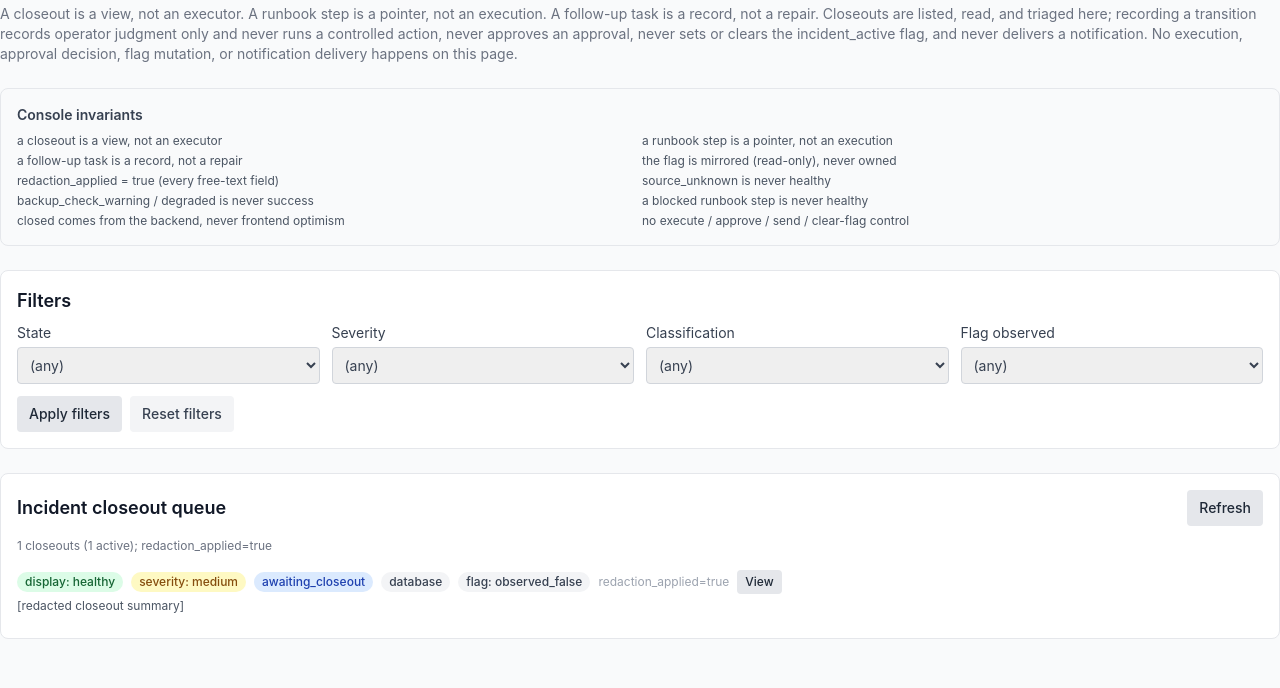
PlatformIncidentCloseoutsPage › a terminal step shows no step transition controls
expect the list item with test id "ic-queue-item" is shown: met, box [17,570,782,613]
Click the button with test id "ic-view-btn" at [759, 582], box [737,570,782,594]
(page scrolled)
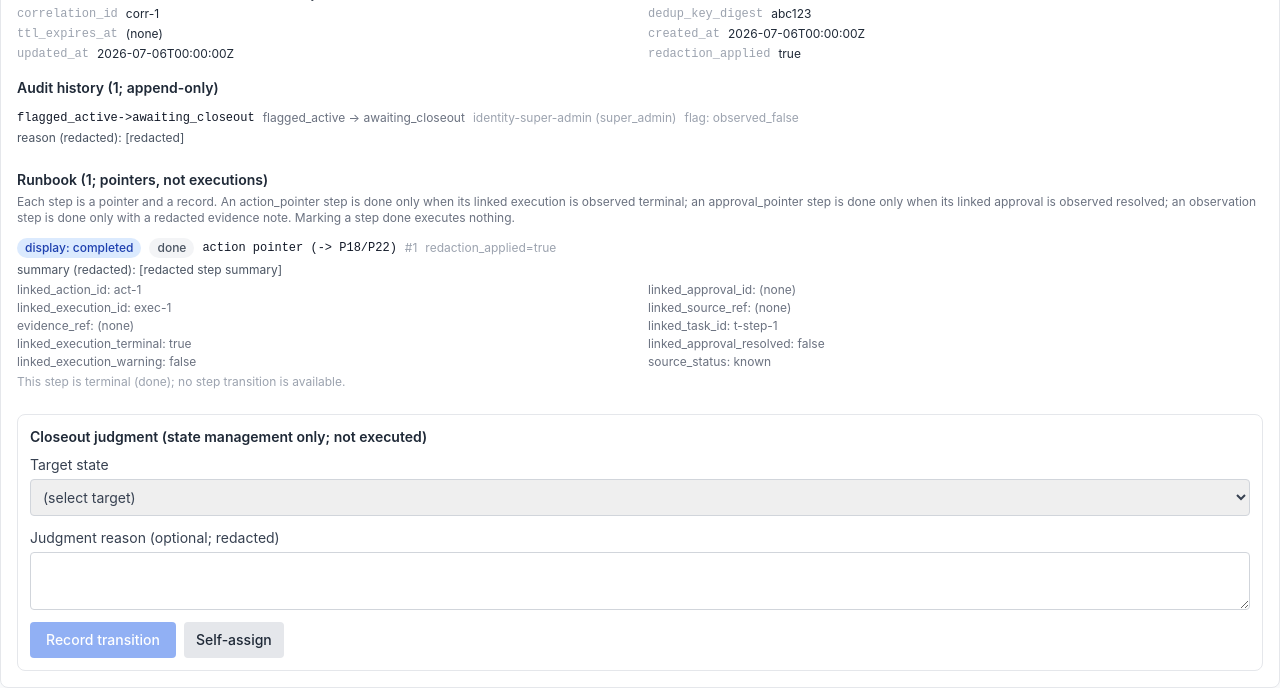
expect the text with test id "ic-step-terminal" is shown: met, box [17,374,346,389]
